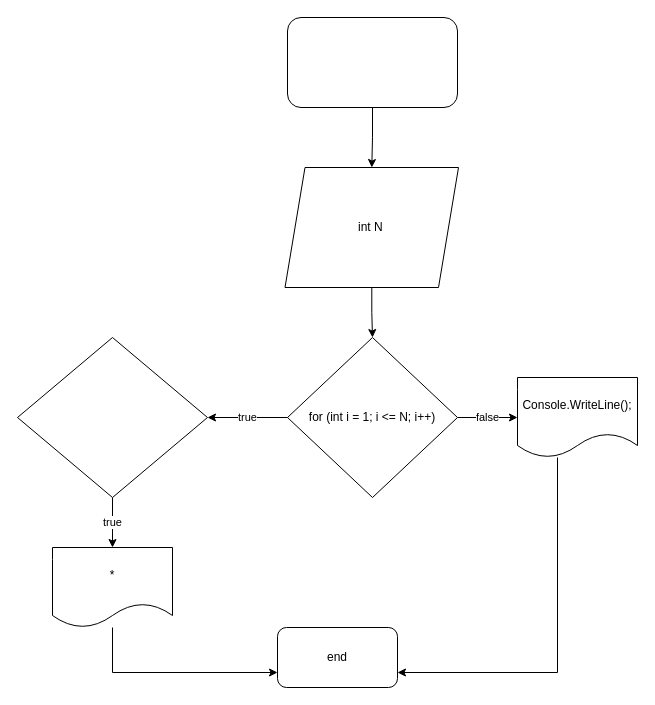
The diagram is 655 pixels wide and 705 high, and some of its shapes have lost their labels. The shapes that lost their labels are listed below. From the top down, each one's centre as x and y in pixels, then its label:
At (372,62): "start".
At (112,417): "for (int j = 1; j <= i; j++)".
